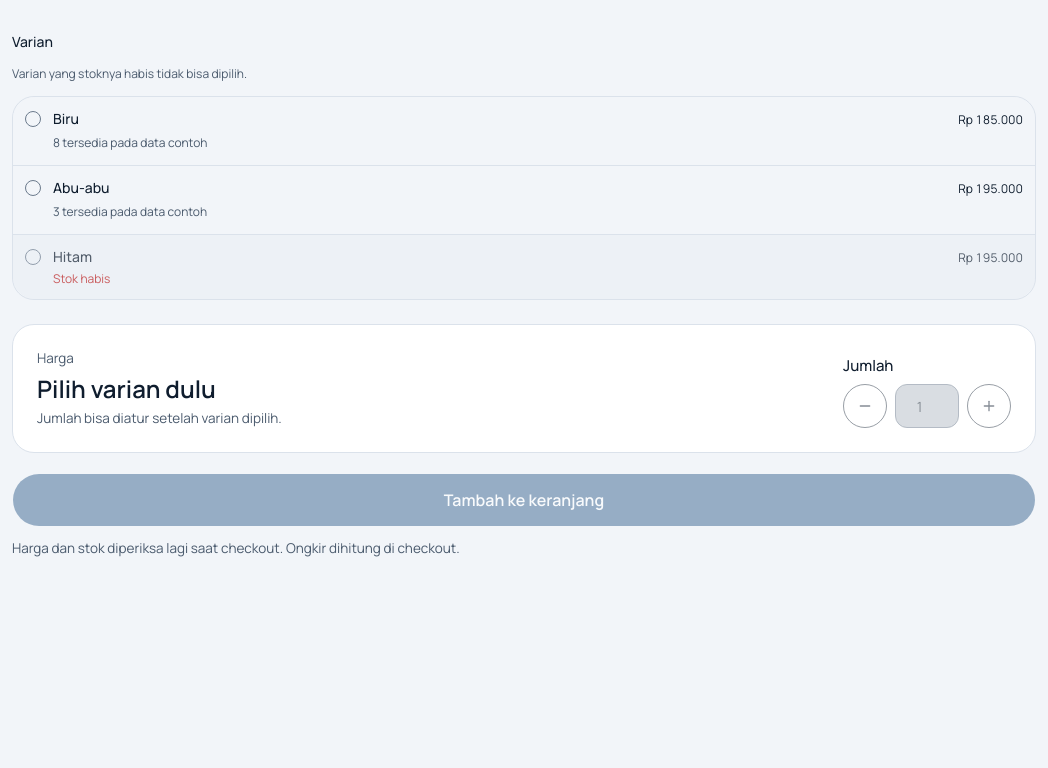
Test case: product selection preview › updates quantity within the selected preview stock
Click the radio button named "Biru" next to "Biru" at (33,119), box [25,111,41,127]
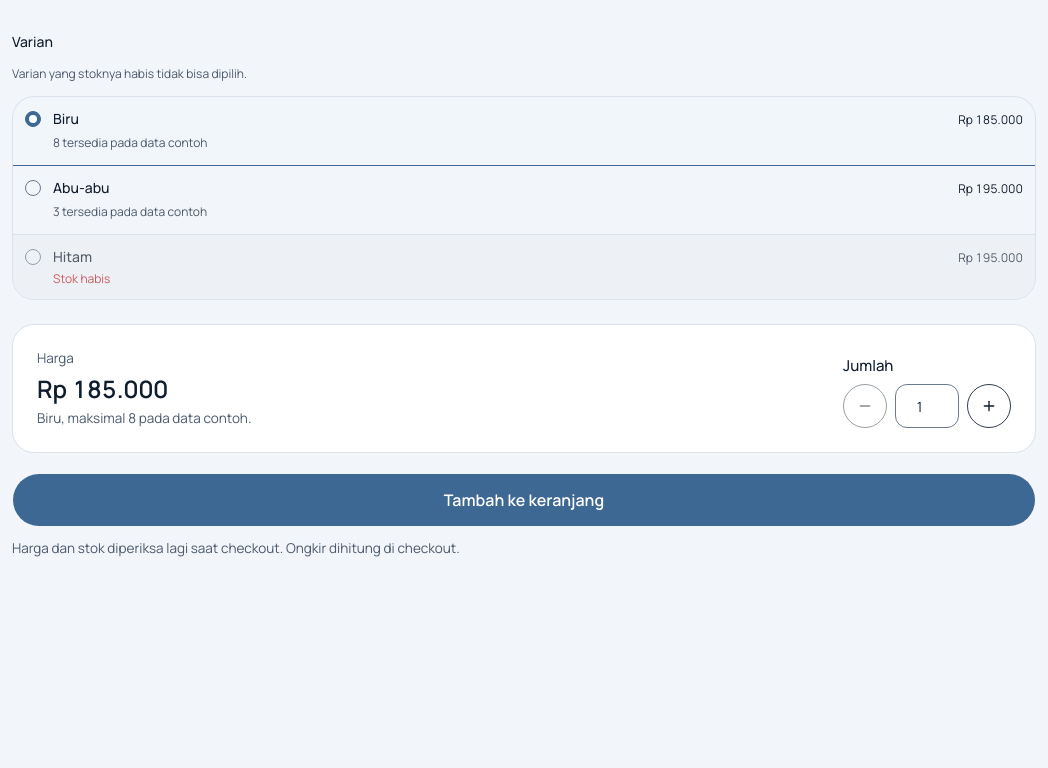
Click the button named "Tambah jumlah" at (989,406), box [967,384,1011,428]
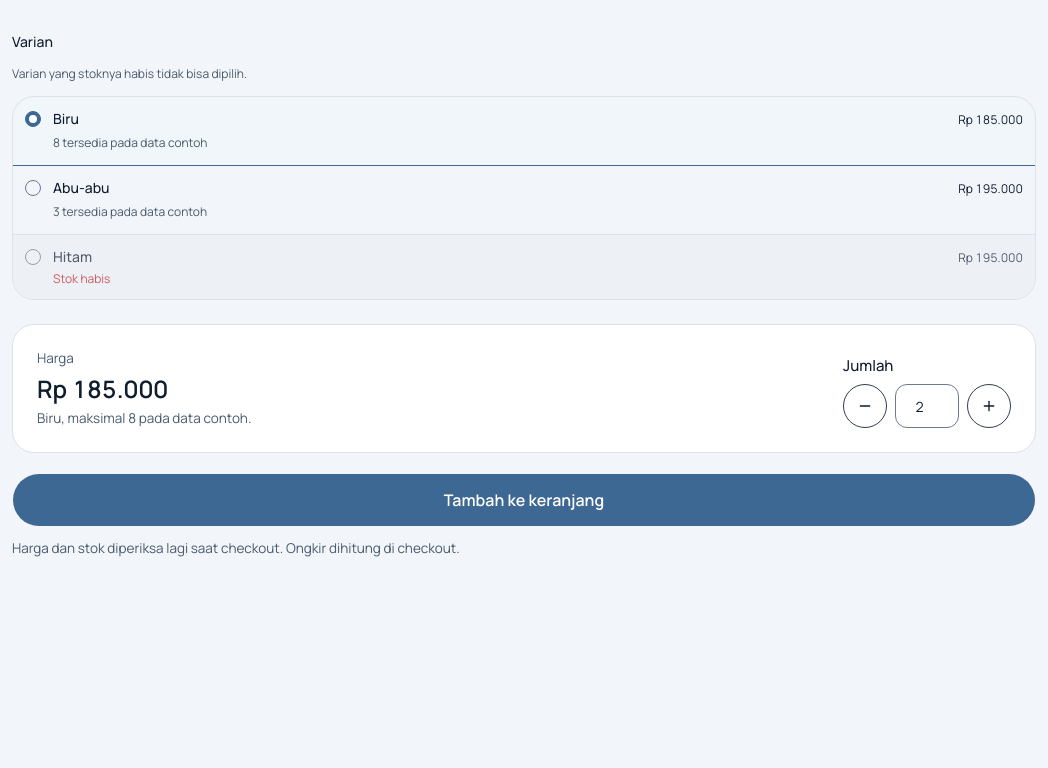
expect the number field labelled "Jumlah" holds "2": met
Replace the text in the number field labelled "Jumlah" with "99" at (927,406), box [895,384,959,428]
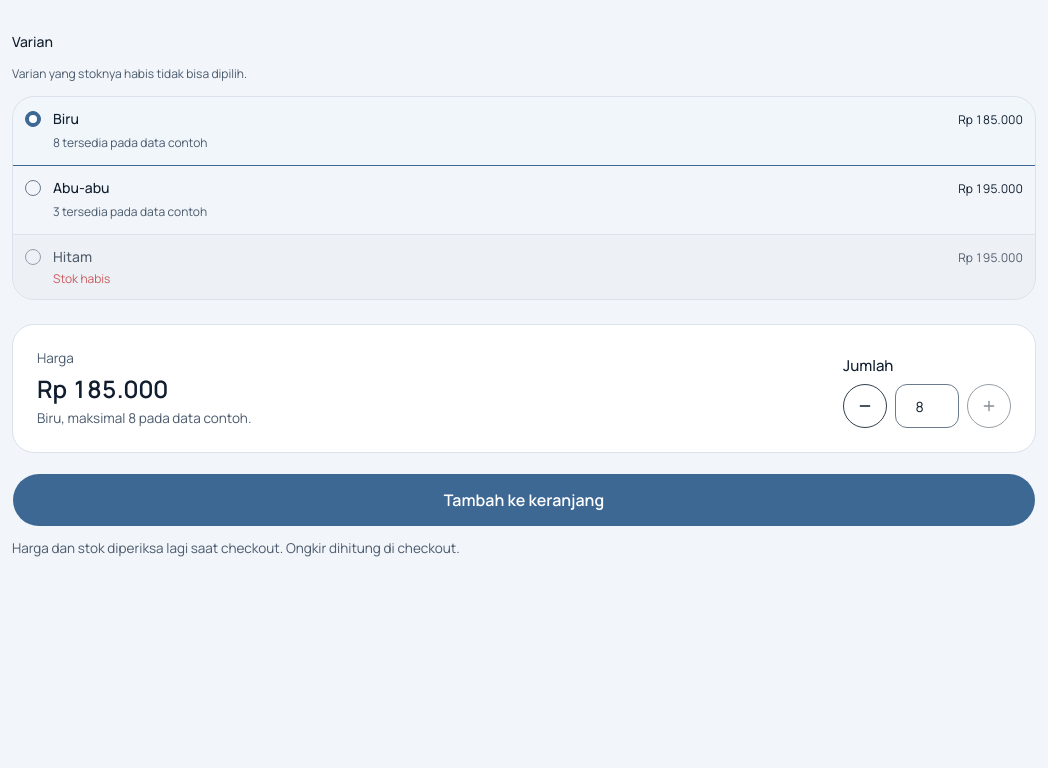
expect the number field labelled "Jumlah" holds "8": met, box [895,384,959,428]
expect the button named "Tambah jumlah" is disabled: met, box [967,384,1011,428]
